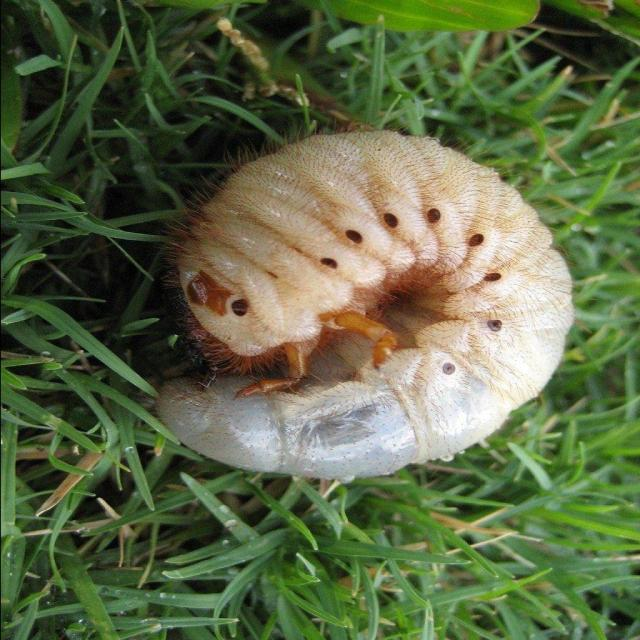grub: (156, 129, 580, 499)
